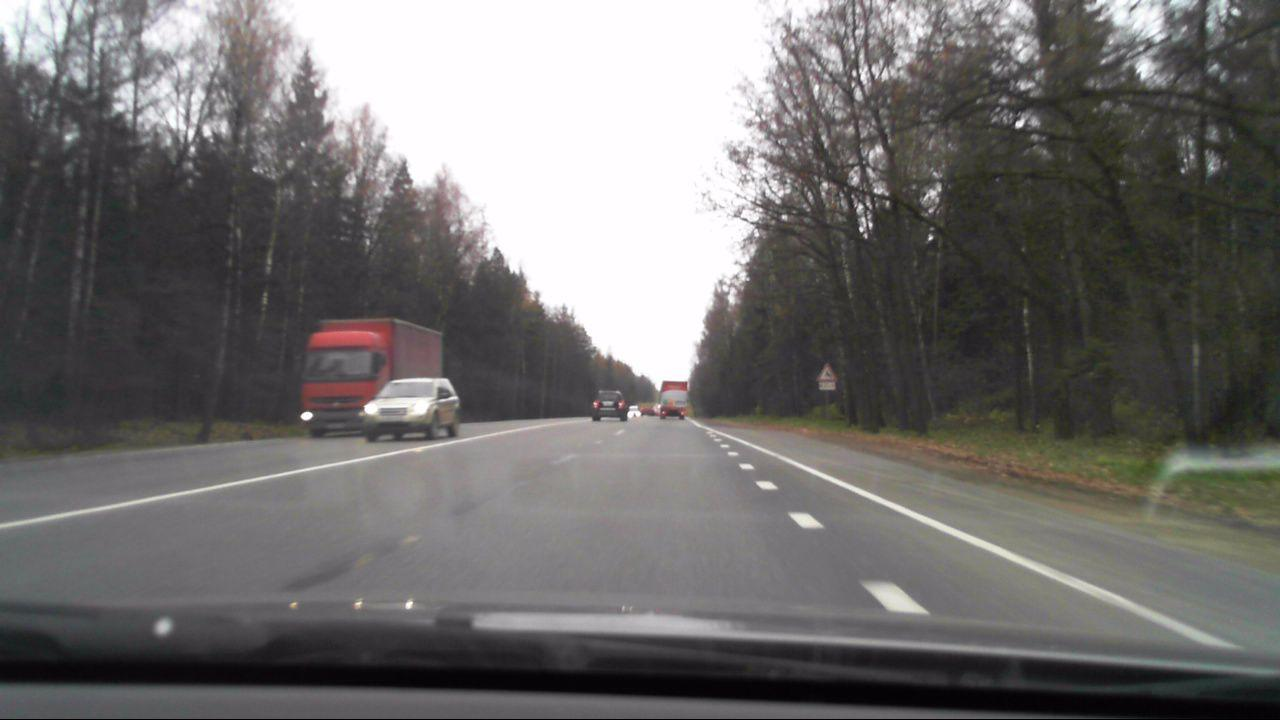1_27: (817, 362, 837, 380)
8_2_1: (818, 381, 836, 391)
